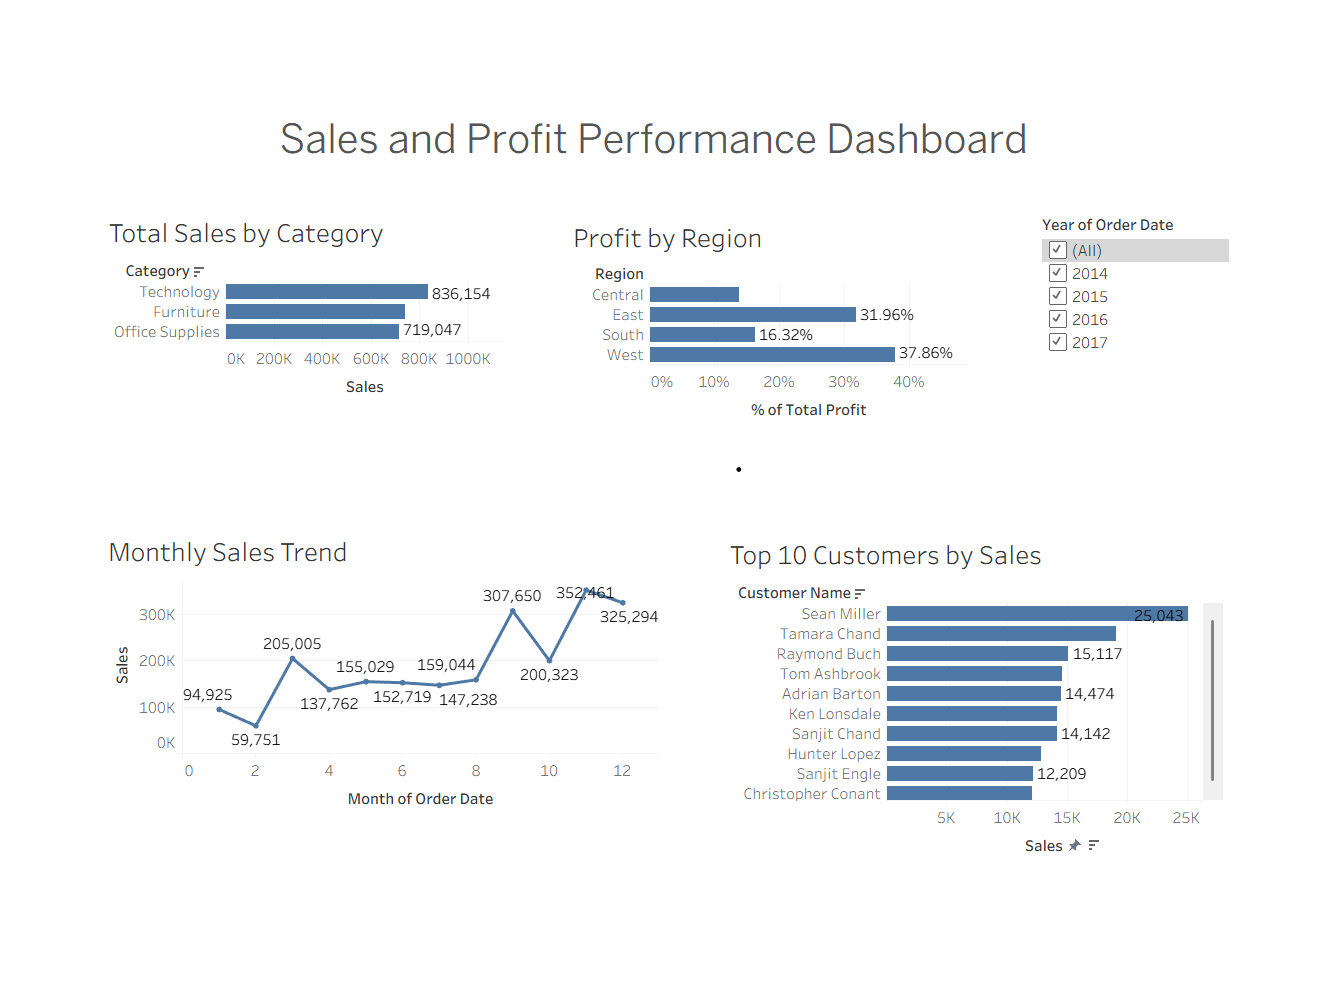

This screenshot's page, from the dashboard's own definition file:
{"tool":"tableau","page":{"name":"Dashboard 1","canvas":[1000,1000],"units":"permille","ordinal":0},"visuals":[{"type":"text","box":[174.2,19.9,662.5,132.2]},{"type":"worksheet","title":"Sales By Category","mark":"Automatic","rows":["Category"],"cols":["Sales"],"box":[31.7,170.8,333.3,332.9]},{"type":"filter","title":"Profit by Region","param":"[federated.0ps6hl917v0d8i11n44020lkm3fk].[yr:Order Date:ok]","box":[812.5,174.6,155.8,239.4]},{"type":"worksheet","title":"Profit by Region","mark":"Automatic","rows":["Region"],"cols":["Profit"],"box":[418.3,177.1,333.3,332.9]},{"type":"worksheet","title":"Monthly Sales Trend","mark":"Line","rows":["Sales"],"cols":["Order Date"],"box":[30.8,542.4,462.5,332.9]},{"type":"worksheet","title":"Top 10 Customers by Sales","mark":"Automatic","rows":["Customer Name"],"cols":["Sales"],"box":[549.2,544.9,414.2,384]}]}

Visuals, with their boxes on the dashboard's canvas, which has no fixed pixel size, in thousandths of its width and height (x1, y1, x2, y2). These are canvas units, not pixel positions in the 1332x982 screenshot, which may show the page scaled, cropped or inside an application window:
text: 174:20:837:152
"Sales By Category" worksheet: 32:171:365:504
"Profit by Region" filter: 812:175:968:414
"Profit by Region" worksheet: 418:177:752:510
"Monthly Sales Trend" worksheet (Line marks): 31:542:493:875
"Top 10 Customers by Sales" worksheet: 549:545:963:929
